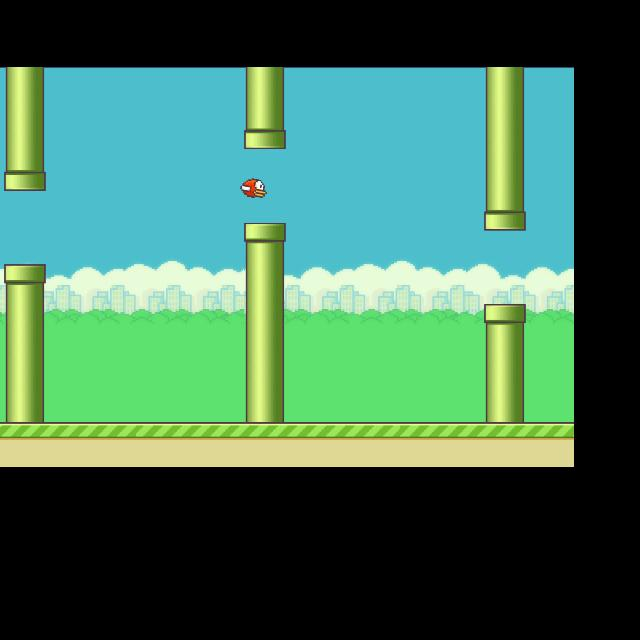bird: (239, 178, 266, 197)
pipedown: (3, 263, 45, 403), (243, 223, 285, 357), (483, 304, 525, 404)
pipeup: (483, 84, 524, 230), (3, 70, 45, 190), (244, 79, 286, 150)
